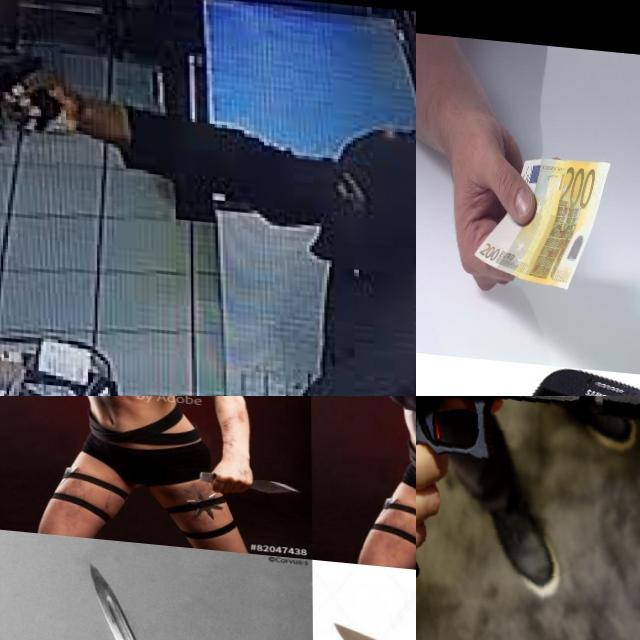-: (81, 554, 193, 640), (60, 396, 98, 423), (382, 396, 416, 423)
gun-knife-thesis - v11 Yolov5 augmented: (416, 396, 640, 640), (0, 30, 81, 131)
